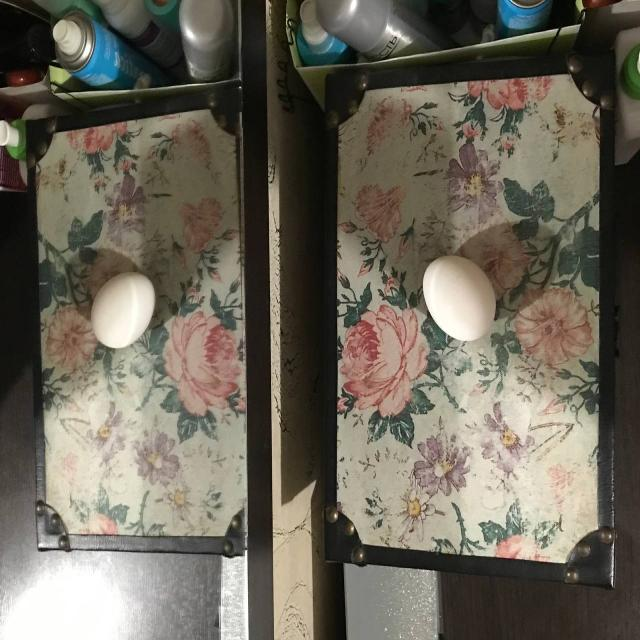egg: (422, 253, 497, 343), (90, 270, 156, 348)
